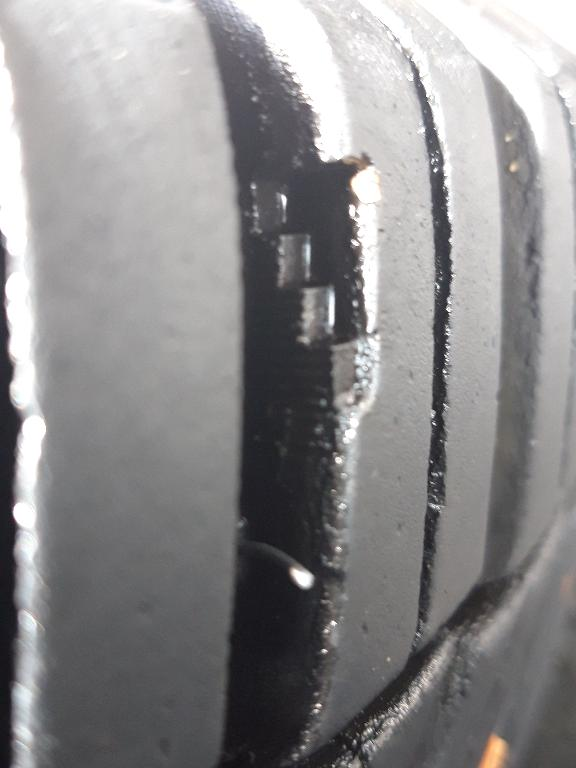temoin:80: (234, 149, 388, 444)
